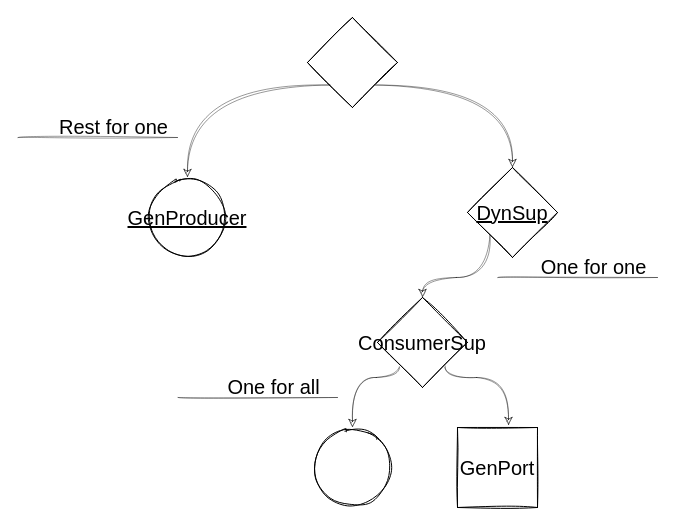
The diagram is 676 pixels wide and 525 high, and some of its shapes have lost their labels. Here are the shapes that lost their labels. From the top down, the centre of each, then its label:
At pixel 352 62: "Medusa".
At pixel 352 467: "GenConsumer".
